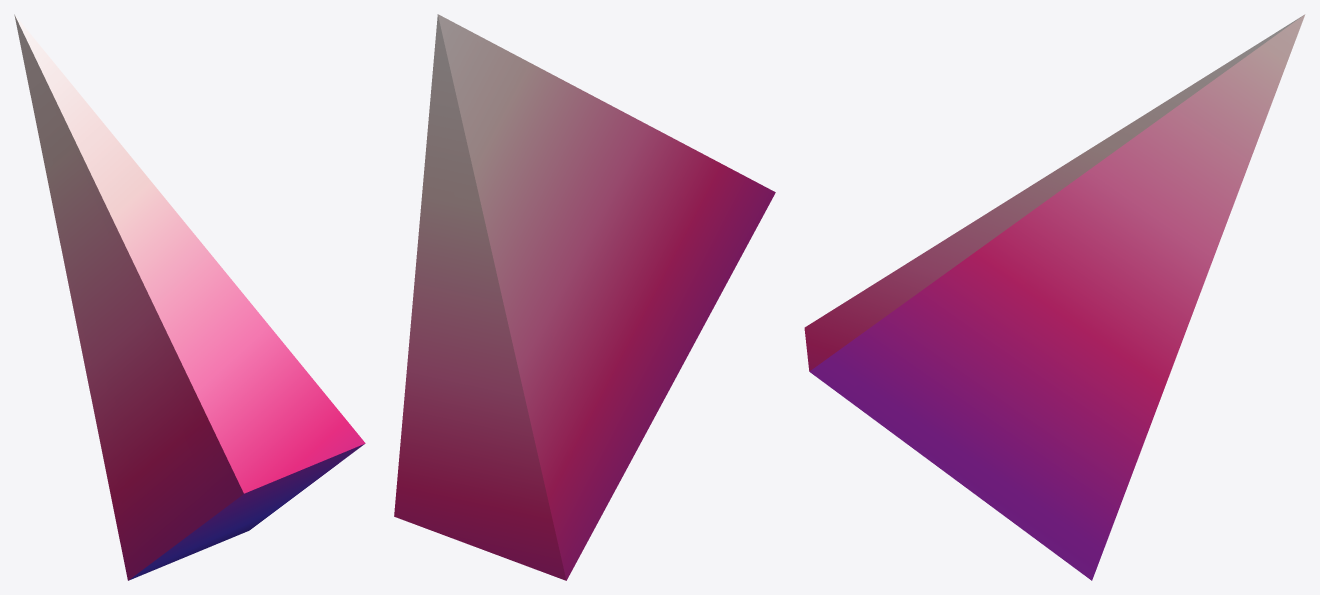
File: player_leftArm_next.obj
3 views of the same model, side by side, from view 1: azimuth 30°, elevation 25°; view 2: azimuth 150°, elevation 25°; view 3: azimuth 270°, elevation 25° (orthographic). The views are drawn at different scales.
Visible parts, largest first — view 1: leftArm_next; view 2: leftArm_next; view 3: leftArm_next.
Part boxes in pixels (left/top/right/bottom): leftArm_next: left=14, top=14, right=365, bottom=580; leftArm_next: left=394, top=14, right=775, bottom=580; leftArm_next: left=804, top=14, right=1305, bottom=580.
Bounding box in the file's own units: 0.099 × 0.3278 × 0.2874.
